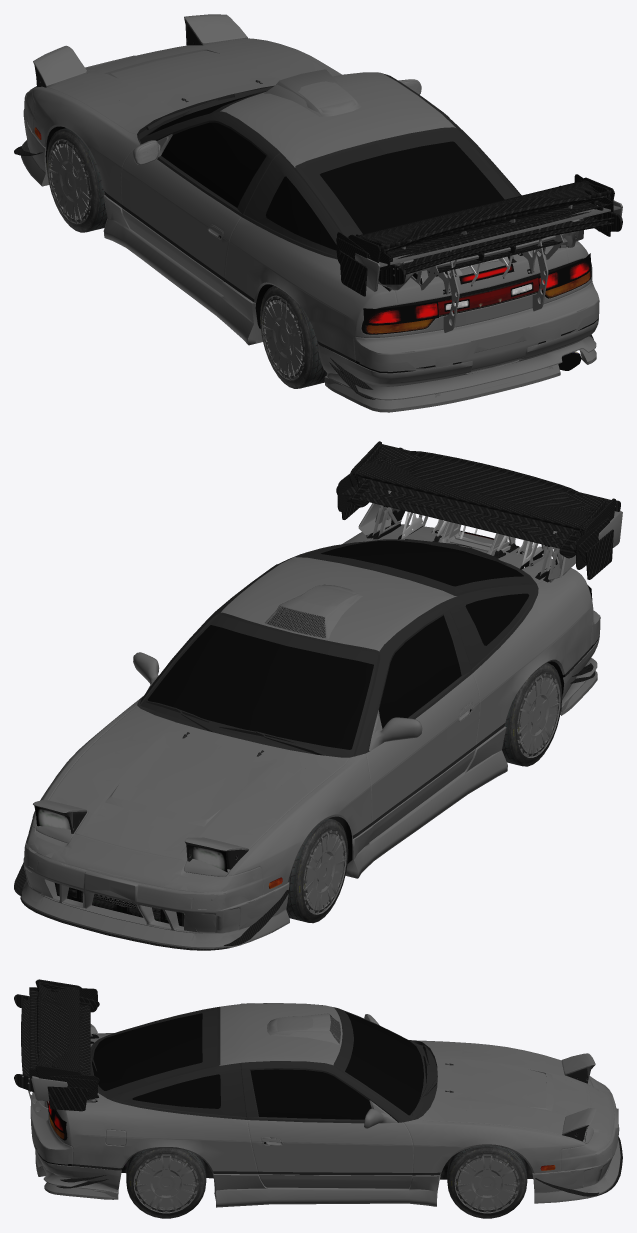
3 views of the same model, one above another, from view 1: azimuth 30°, elevation 25°; view 2: azimuth 150°, elevation 25°; view 3: azimuth 270°, elevation 25° (orthographic). The views are drawn at different scales.
Parts seen in each view (by area): view 1: 180sx, RearBumper3, Hood, SideSkirt1, Hood1, RearBumper, RearBumper1, Spoiler9, Spoiler5, HeadLight_on, Spoiler3, Spoiler10 (+16 smaller); view 2: 180sx, Hood, FrontBumper3, Hood1, FrontBumper, Spoiler9, Spoiler10, SideSkirt1, FrontBumper2, Spoiler6, W1, Hood2 (+19 smaller); view 3: 180sx, Hood, SideSkirt1, Hood1, FrontBumper3, RearBumper3, W1_003, W1_002, Spoiler9, Spoiler10, FrontBumper, FrontBumper2 (+25 smaller).
Boxes of the visible parts, left/top/right/bottom form: 180sx: left=32, top=38, right=592, bottom=362; RearBumper3: left=318, top=281, right=599, bottom=412; Hood: left=49, top=39, right=336, bottom=134; SideSkirt1: left=103, top=195, right=262, bottom=345; Hood1: left=48, top=40, right=294, bottom=131; RearBumper: left=347, top=280, right=599, bottom=373; RearBumper1: left=324, top=301, right=596, bottom=400; Spoiler9: left=348, top=177, right=614, bottom=275; Spoiler5: left=378, top=211, right=622, bottom=294; HeadLight_on: left=33, top=14, right=247, bottom=87; Spoiler3: left=356, top=180, right=613, bottom=290; Spoiler10: left=359, top=180, right=610, bottom=253; 180sx: left=32, top=524, right=593, bottom=894; Hood: left=48, top=706, right=349, bottom=860; FrontBumper3: left=20, top=821, right=289, bottom=949; Hood1: left=55, top=723, right=345, bottom=860; FrontBumper: left=24, top=819, right=289, bottom=932; Spoiler9: left=349, top=441, right=616, bottom=555; Spoiler10: left=354, top=444, right=607, bottom=574; SideSkirt1: left=352, top=726, right=507, bottom=878; FrontBumper2: left=14, top=820, right=289, bottom=950; Spoiler6: left=351, top=457, right=594, bottom=569; W1: left=286, top=818, right=347, bottom=922; Hood2: left=79, top=732, right=312, bottom=855; 180sx: left=46, top=1003, right=585, bottom=1179; Hood: left=418, top=1041, right=590, bottom=1134; SideSkirt1: left=213, top=1173, right=440, bottom=1207; Hood1: left=423, top=1042, right=590, bottom=1131; FrontBumper3: left=532, top=1076, right=620, bottom=1203; RearBumper3: left=30, top=1092, right=121, bottom=1199; W1_003: left=447, top=1145, right=527, bottom=1214; W1_002: left=126, top=1149, right=206, bottom=1214; Spoiler9: left=35, top=979, right=83, bottom=1079; Spoiler10: left=37, top=982, right=79, bottom=1067; FrontBumper: left=532, top=1077, right=618, bottom=1187; FrontBumper2: left=535, top=1079, right=622, bottom=1196.
Size of the model in its own units: 1.49 by 1 by 3.64.
